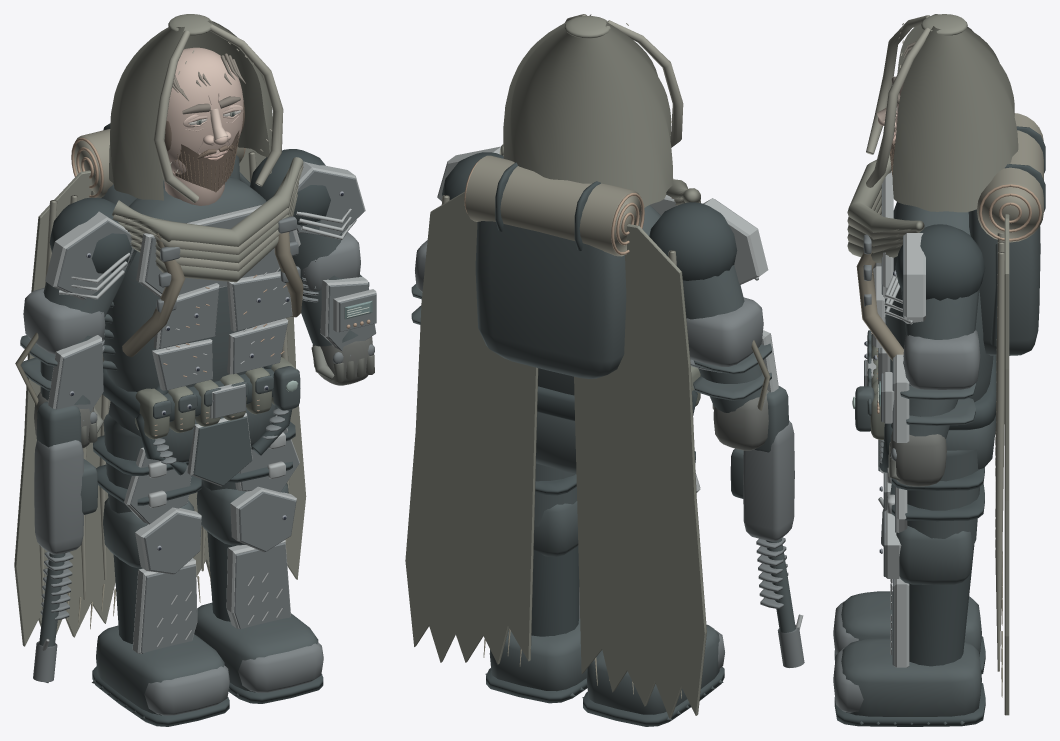
File: josiah2.glb
3 renders of one model, left to right at view 1: azimuth 30°, elevation 25°; view 2: azimuth 150°, elevation 25°; view 3: azimuth 270°, elevation 25°, orthographic. The views are drawn at different scales.
Parts seen in each view (by area): view 1: Open olive hood shell, Torn long olive cloak -1, Flexible armoured undersuit, Rifle receiver, Left reinforced boot, Human cranium, Right reinforced boot, Right shin armour face, Left shin armour face, Folded shoulder cowl 0, Left elbow shell, Pelvis shield face (+66 smaller); view 2: Torn long olive cloak -1, Torn long olive cloak 1, Open olive hood shell, Backpack frame, Rolled blanket on pack, Rifle receiver, Left shoulder bearing, Right reinforced boot, Right calf undersuit, Left elbow shell, Left arm flexible suit, Left reinforced boot (+16 smaller); view 3: Open olive hood shell, Right reinforced boot, Backpack frame, Right calf undersuit, Rolled blanket on pack, Right shoulder bearing, Right elbow shell, Right knee bearing, Right arm flexible suit, Right upper leg suit, Cloak falling fold 1-4, Torn long olive cloak 1 (+34 smaller).
Boxes of the visible parts, x1=… form: Open olive hood shell: x1=109, y1=20, x2=272, y2=200; Torn long olive cloak -1: x1=14, y1=170, x2=115, y2=646; Flexible armoured undersuit: x1=102, y1=177, x2=280, y2=391; Rifle receiver: x1=34, y1=440, x2=83, y2=554; Left reinforced boot: x1=96, y1=625, x2=224, y2=715; Human cranium: x1=166, y1=47, x2=243, y2=162; Right reinforced boot: x1=194, y1=602, x2=318, y2=692; Right shin armour face: x1=234, y1=542, x2=290, y2=629; Left shin armour face: x1=140, y1=564, x2=196, y2=653; Folded shoulder cowl 0: x1=112, y1=157, x2=303, y2=246; Left elbow shell: x1=23, y1=288, x2=105, y2=354; Pelvis shield face: x1=193, y1=416, x2=252, y2=485; Torn long olive cloak -1: x1=574, y1=224, x2=706, y2=718; Torn long olive cloak 1: x1=405, y1=191, x2=538, y2=664; Open olive hood shell: x1=503, y1=15, x2=673, y2=207; Backpack frame: x1=475, y1=221, x2=626, y2=378; Rolled blanket on pack: x1=465, y1=155, x2=641, y2=256; Rifle receiver: x1=743, y1=420, x2=794, y2=541; Left shoulder bearing: x1=649, y1=202, x2=737, y2=280; Right reinforced boot: x1=489, y1=619, x2=587, y2=691; Right calf undersuit: x1=531, y1=546, x2=579, y2=636; Left elbow shell: x1=686, y1=297, x2=763, y2=366; Left arm flexible suit: x1=683, y1=265, x2=762, y2=412; Left reinforced boot: x1=586, y1=624, x2=719, y2=714; Open olive hood shell: x1=892, y1=14, x2=1018, y2=212; Right reinforced boot: x1=841, y1=638, x2=981, y2=716; Backpack frame: x1=968, y1=209, x2=1040, y2=355; Right calf undersuit: x1=909, y1=545, x2=974, y2=666; Rolled blanket on pack: x1=977, y1=113, x2=1043, y2=242; Right shoulder bearing: x1=895, y1=224, x2=985, y2=300; Right elbow shell: x1=903, y1=330, x2=980, y2=389; Right knee bearing: x1=896, y1=525, x2=973, y2=584; Right arm flexible suit: x1=891, y1=288, x2=979, y2=438; Right upper leg suit: x1=907, y1=449, x2=979, y2=545; Cloak falling fold 1-4: x1=995, y1=252, x2=1004, y2=671; Torn long olive cloak 1: x1=1004, y1=214, x2=1009, y2=715.
Bounding box in the file's own units: 2.43 × 4.39 × 1.27.
